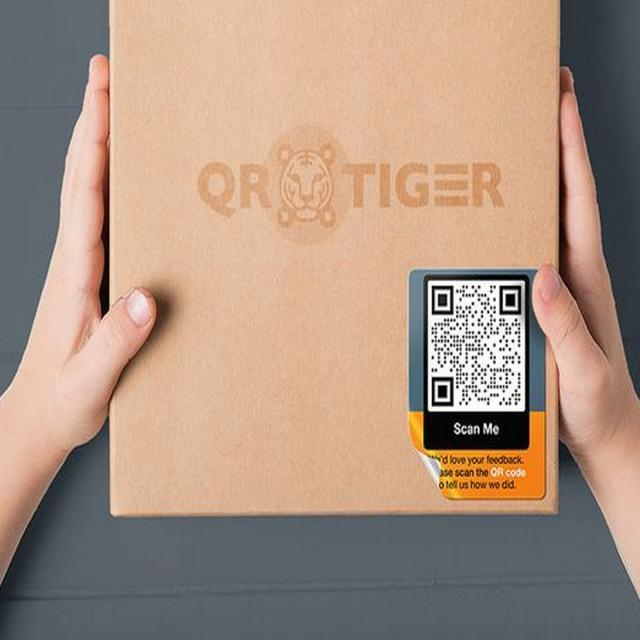qr_code: (432, 285, 522, 407)
